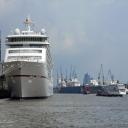cruises: (4, 14, 56, 101)
